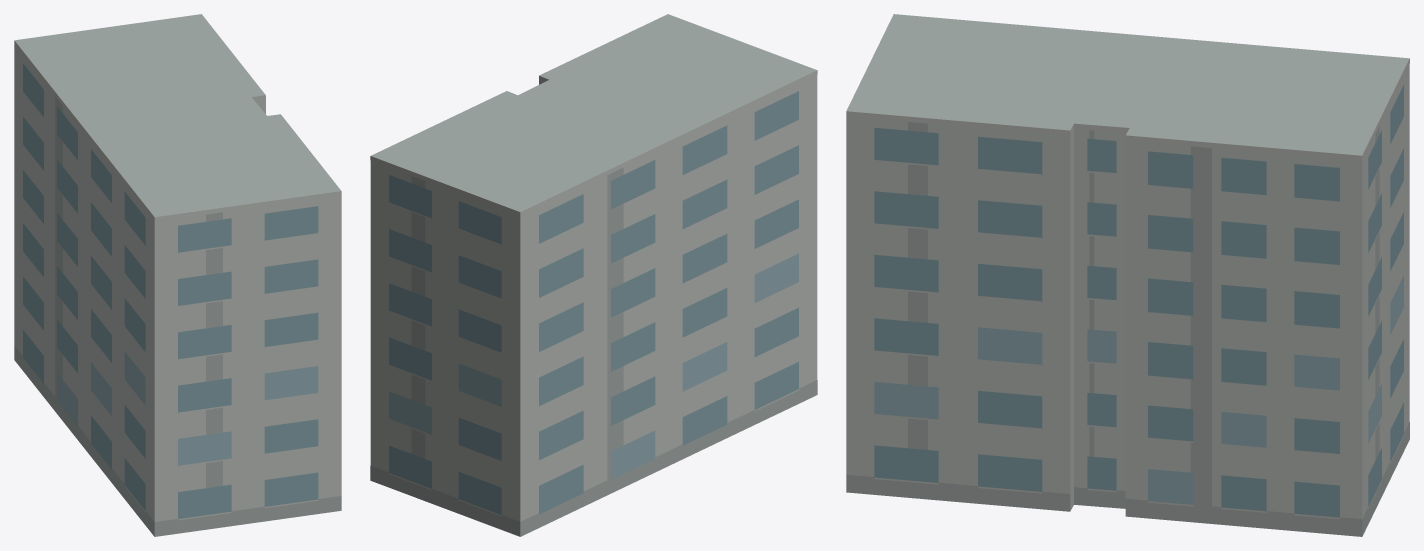
File: survey-upis-32818876.glb
The picture shows the model from 3 angles, left to right: view 1: azimuth 30°, elevation 25°; view 2: azimuth 150°, elevation 25°; view 3: azimuth 270°, elevation 25°; orthographic projection. The views are drawn at different scales.
Visible parts, largest first — view 1: survey-upis-32818876.tmp; view 2: survey-upis-32818876.tmp; view 3: survey-upis-32818876.tmp.
Part boxes in pixels (x1,y1,x2,y2): survey-upis-32818876.tmp: (14, 14, 341, 536); survey-upis-32818876.tmp: (370, 14, 817, 536); survey-upis-32818876.tmp: (846, 14, 1409, 536).
Bounding box in the file's own units: 13.8 × 17.3 × 23.19.
